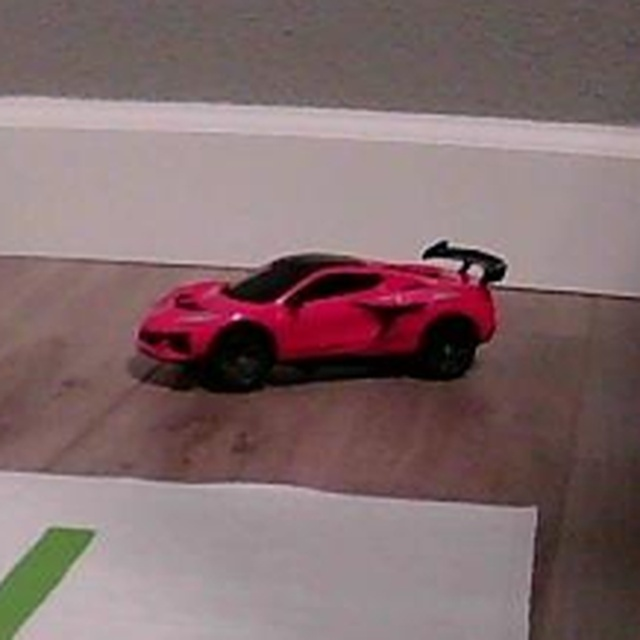tire_front_driver: (205, 325, 278, 396)
tire_rear_driver: (418, 312, 482, 378)
